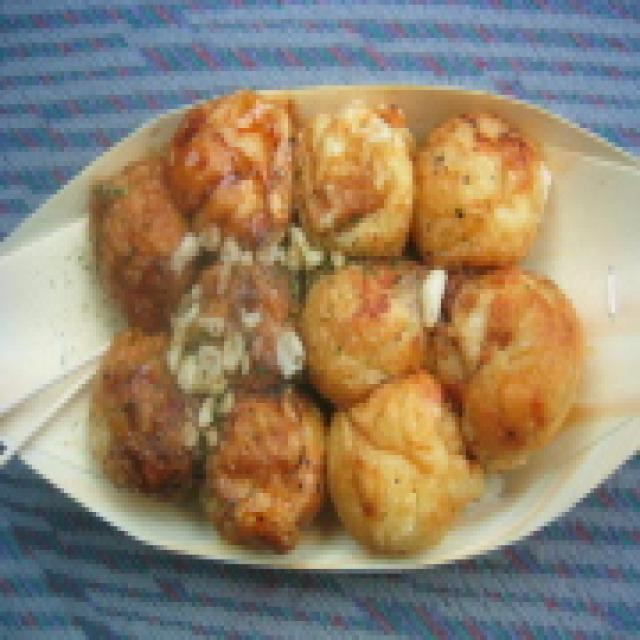炸货点心: (0, 76, 640, 555)
